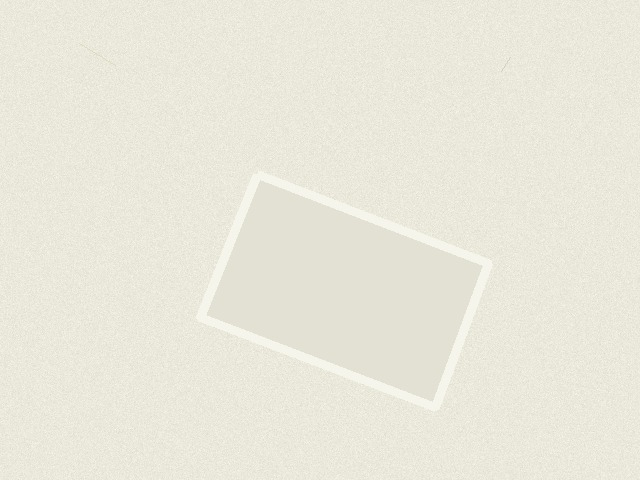parking_area: (200, 174, 488, 407)
